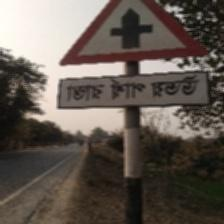Crossroad: (57, 0, 209, 113)
